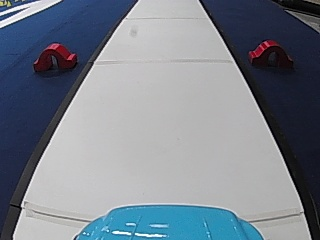bridge: (31, 40, 77, 73), (246, 36, 293, 68)
